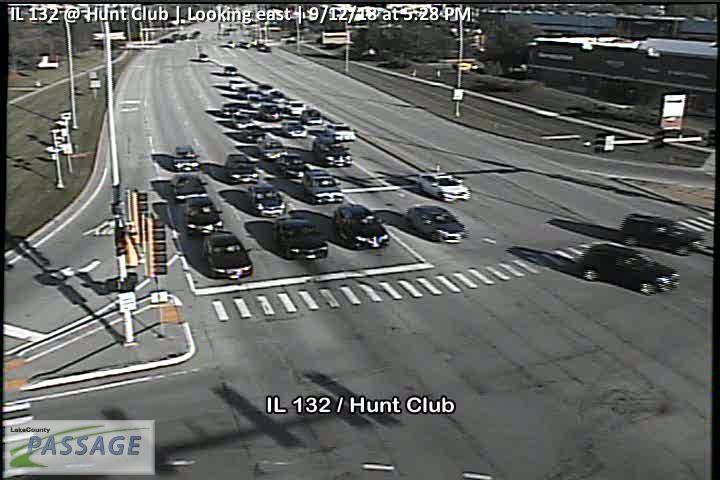Sedan: (581, 243, 680, 294), (620, 212, 705, 256), (332, 203, 392, 250), (273, 214, 329, 260), (200, 232, 254, 279), (407, 205, 468, 244), (182, 197, 225, 237), (415, 172, 472, 202), (302, 167, 344, 204), (246, 183, 286, 217), (311, 137, 354, 168), (172, 170, 207, 202), (224, 153, 260, 184), (275, 150, 312, 178), (171, 143, 201, 173), (326, 121, 358, 145), (282, 118, 307, 139), (301, 107, 323, 125)
